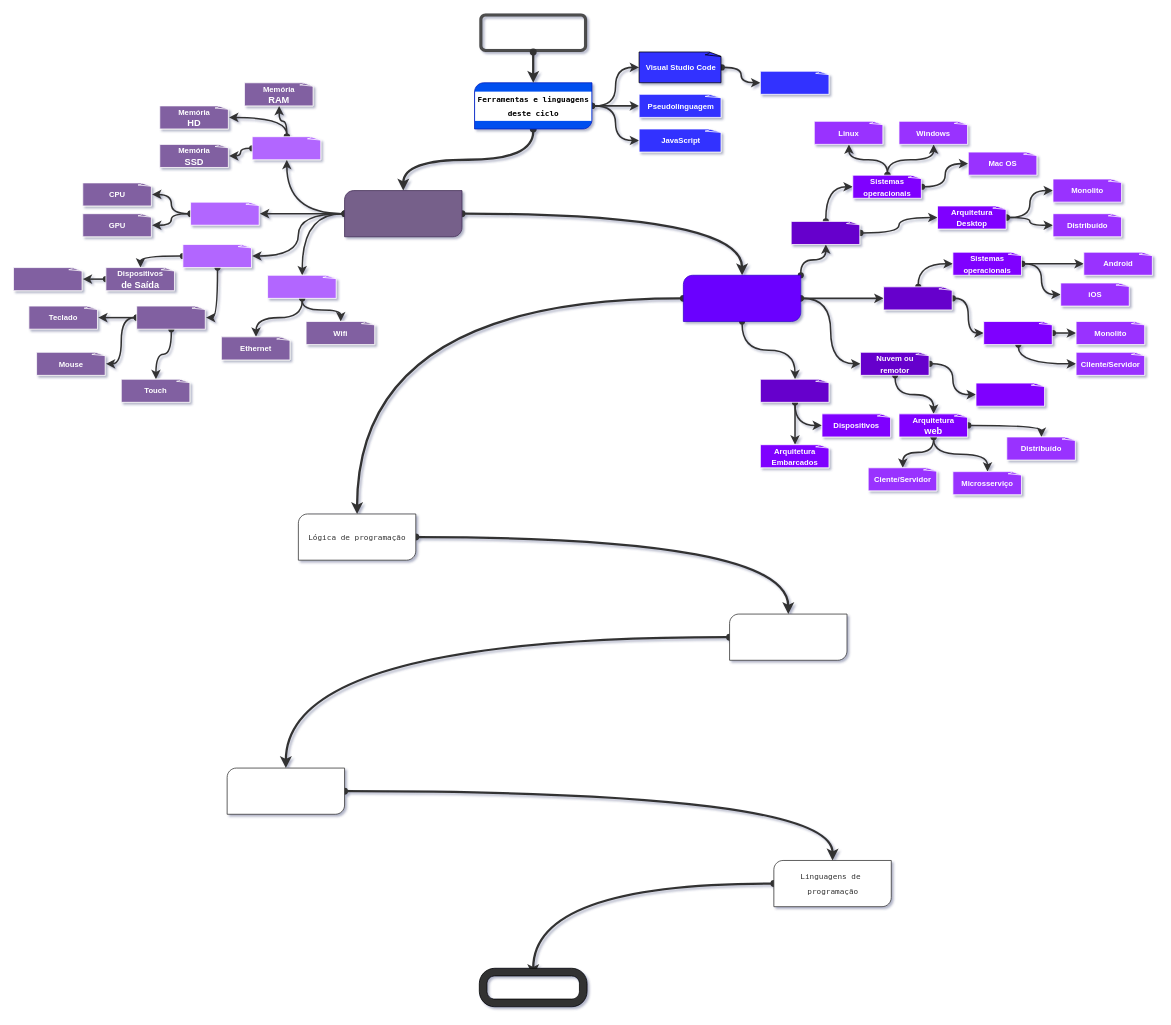
The diagram is 1171 pixels wide and 1025 high, and some of its shapes have lost their labels. Each missing label, with the box of its shape:
Algoritmos: (729, 613, 847, 660)
Arquitetura de Computadores: (344, 190, 462, 237)
Arquitetura Mobile: (983, 321, 1053, 345)
Ciclo 01: Final: (479, 968, 587, 1007)
Ciclo 01: Início: (479, 13, 587, 52)
Computadores de Área de trabalho: (790, 221, 860, 244)
Dispositivos de Entrada: (136, 305, 206, 329)
Dispositivos móveis: (883, 286, 953, 310)
Embarcados: (760, 378, 830, 402)
Linguagens na tecnologia: (226, 767, 345, 814)
Live Server: (760, 70, 830, 94)
Memória: (251, 136, 321, 160)
Monitor: (13, 267, 83, 291)
Navegadores: (975, 382, 1045, 406)
Periféricos: (182, 244, 252, 268)
Plataformas: (683, 275, 801, 321)
Processamento: (190, 201, 260, 225)
Rede: (267, 275, 337, 298)
